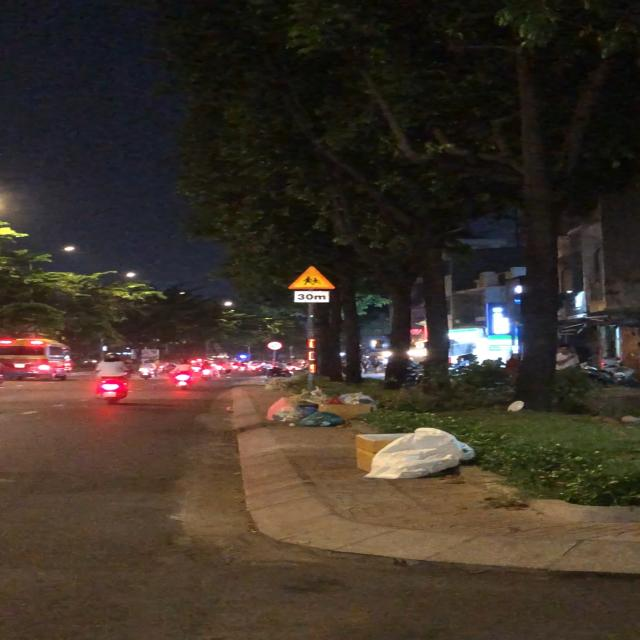Bien bao tre em: (286, 265, 338, 292)
